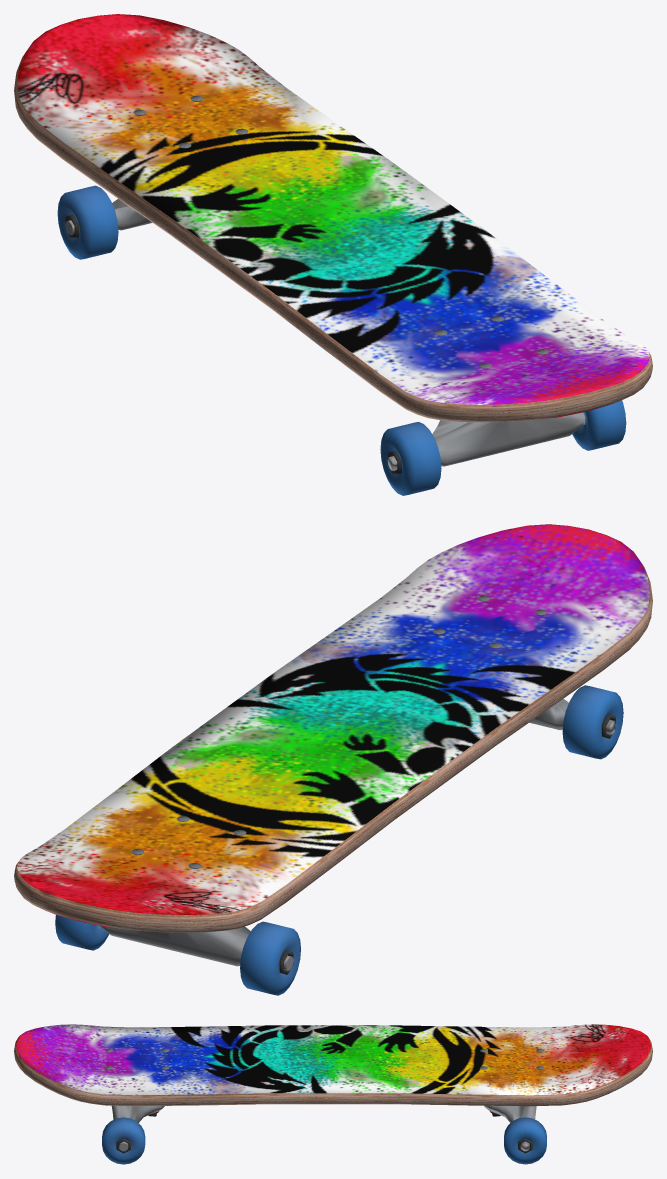
3 renders of one model, top to bottom at view 1: azimuth 30°, elevation 25°; view 2: azimuth 150°, elevation 25°; view 3: azimuth 270°, elevation 25°, orthographic. The views are drawn at different scales.
Visible parts, largest first — view 1: polySurface9_all_texture_PBS_0, polySurface9_all_texture_PBS_0.002, polySurface9_all_texture_PBS_0.004, polySurface9_all_texture_PBS_0.003; view 2: polySurface9_all_texture_PBS_0, polySurface9_all_texture_PBS_0.002, polySurface9_all_texture_PBS_0.004, polySurface9_all_texture_PBS_0.001; view 3: polySurface9_all_texture_PBS_0, polySurface9_all_texture_PBS_0.003, polySurface9_all_texture_PBS_0.001.
Boxes of the visible parts, box(x1,y1,x2,y2) form: polySurface9_all_texture_PBS_0: box(14, 14, 652, 474); polySurface9_all_texture_PBS_0.002: box(57, 185, 118, 259); polySurface9_all_texture_PBS_0.004: box(380, 422, 441, 495); polySurface9_all_texture_PBS_0.003: box(572, 400, 626, 450); polySurface9_all_texture_PBS_0: box(14, 524, 652, 974); polySurface9_all_texture_PBS_0.002: box(240, 921, 300, 995); polySurface9_all_texture_PBS_0.004: box(562, 685, 623, 759); polySurface9_all_texture_PBS_0.001: box(55, 915, 109, 950); polySurface9_all_texture_PBS_0: box(14, 1024, 652, 1153); polySurface9_all_texture_PBS_0.003: box(102, 1117, 145, 1164); polySurface9_all_texture_PBS_0.001: box(504, 1117, 546, 1164).
Size of the model in its own units: 52.55 by 30.87 by 205.
1 material, 1 textured.
